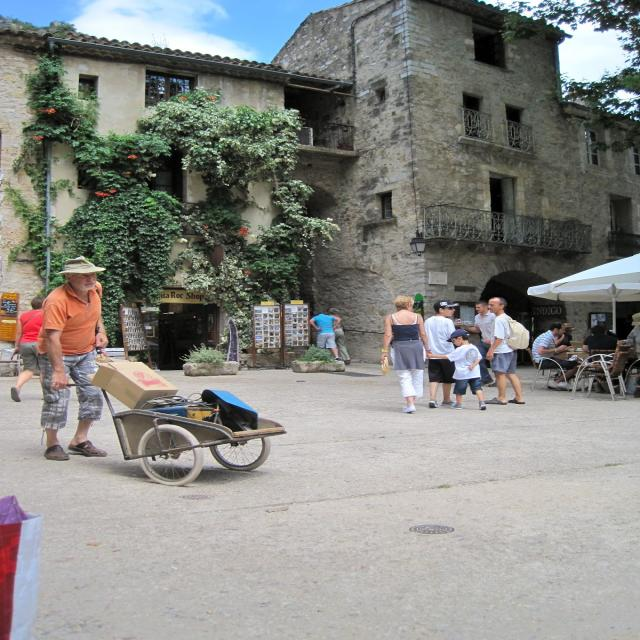body: (37, 254, 112, 463), (379, 294, 434, 415), (425, 328, 488, 411), (483, 296, 527, 405), (424, 299, 461, 408), (9, 296, 46, 403), (456, 300, 498, 388), (531, 321, 578, 391), (306, 309, 342, 361), (328, 308, 352, 364), (582, 325, 617, 361), (616, 311, 640, 358), (553, 323, 575, 348)
